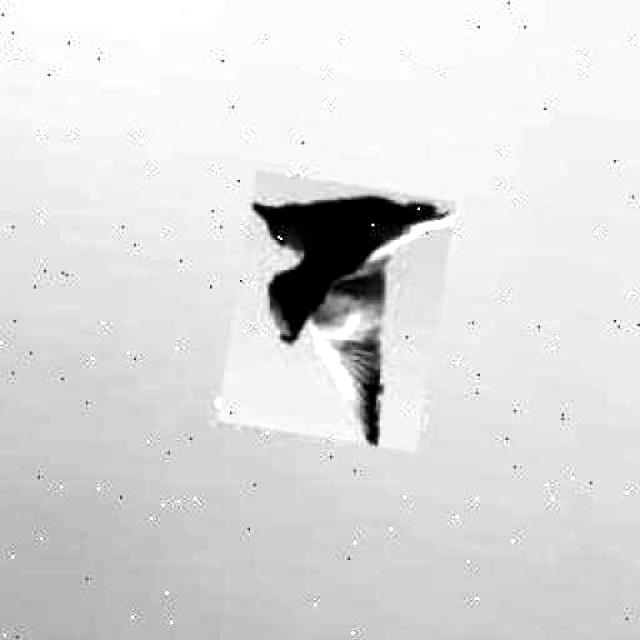airplane: (218, 170, 458, 454)
